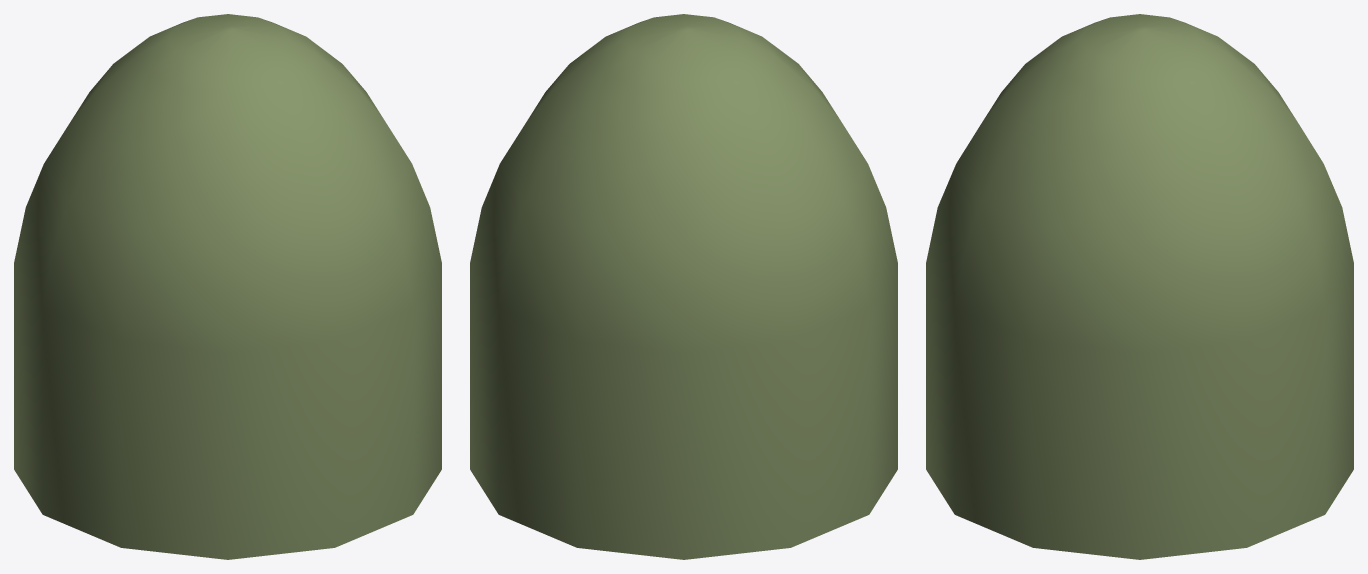
The model's file is Boxwood_Analytical_0.obj.
3 renders of one model, left to right at view 1: azimuth 30°, elevation 25°; view 2: azimuth 150°, elevation 25°; view 3: azimuth 270°, elevation 25°, orthographic.
Visible parts, largest first — view 1: AnalyticalCrown; view 2: AnalyticalCrown; view 3: AnalyticalCrown.
Boxes of the visible parts, bbox=[...] form: AnalyticalCrown: bbox=[14, 14, 441, 559]; AnalyticalCrown: bbox=[470, 14, 897, 559]; AnalyticalCrown: bbox=[926, 14, 1353, 559].
Bounding box in the file's own units: 0.88 × 1 × 0.88.
